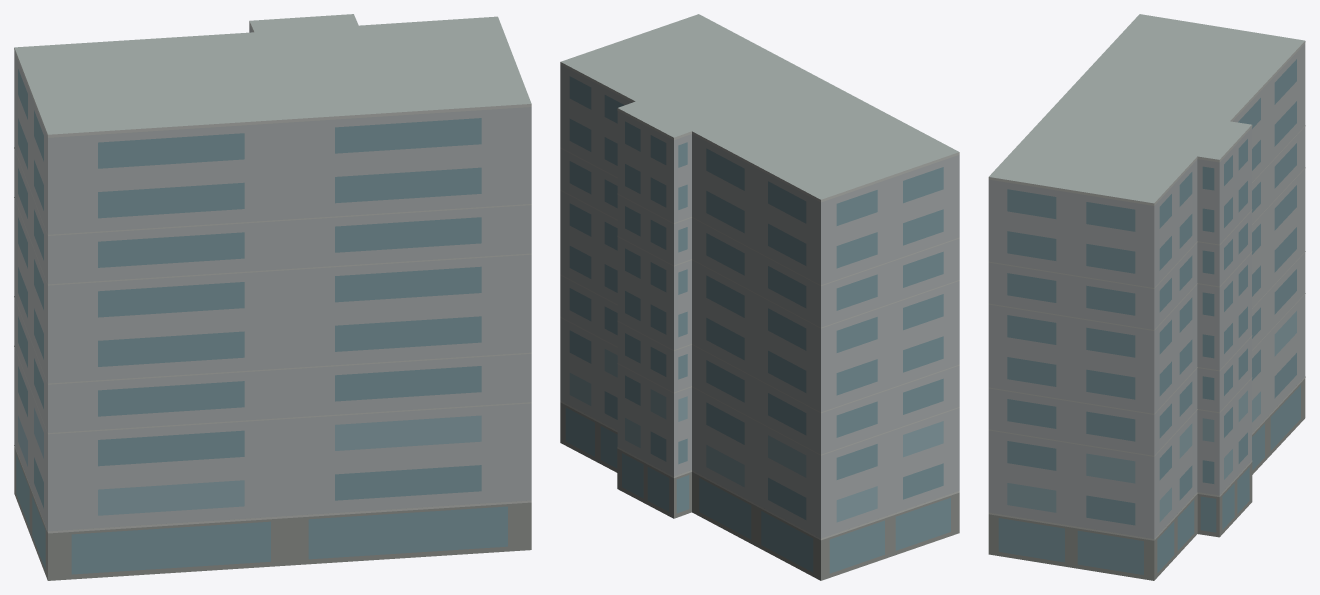
Rendered from survey-upis-32878818.glb.
3 views of the same model, side by side, from view 1: azimuth 30°, elevation 25°; view 2: azimuth 150°, elevation 25°; view 3: azimuth 270°, elevation 25° (orthographic). The views are drawn at different scales.
Parts seen in each view (by area): view 1: survey-upis-32878818.tmp; view 2: survey-upis-32878818.tmp; view 3: survey-upis-32878818.tmp.
Boxes of the visible parts, x1,y1,x2,y2 form: survey-upis-32878818.tmp: (14,14,531,580); survey-upis-32878818.tmp: (560,14,959,580); survey-upis-32878818.tmp: (988,14,1305,580).
Bounding box in the file's own units: 37.68 × 35 × 26.64.
